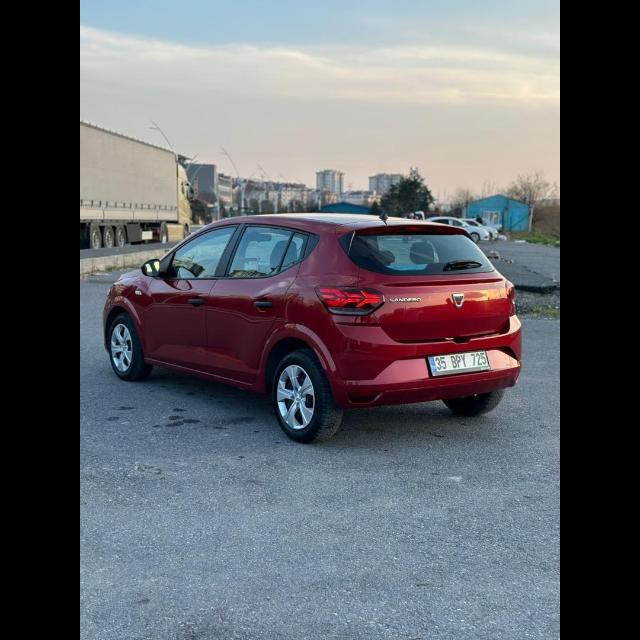Plaka: (430, 352, 488, 374)
